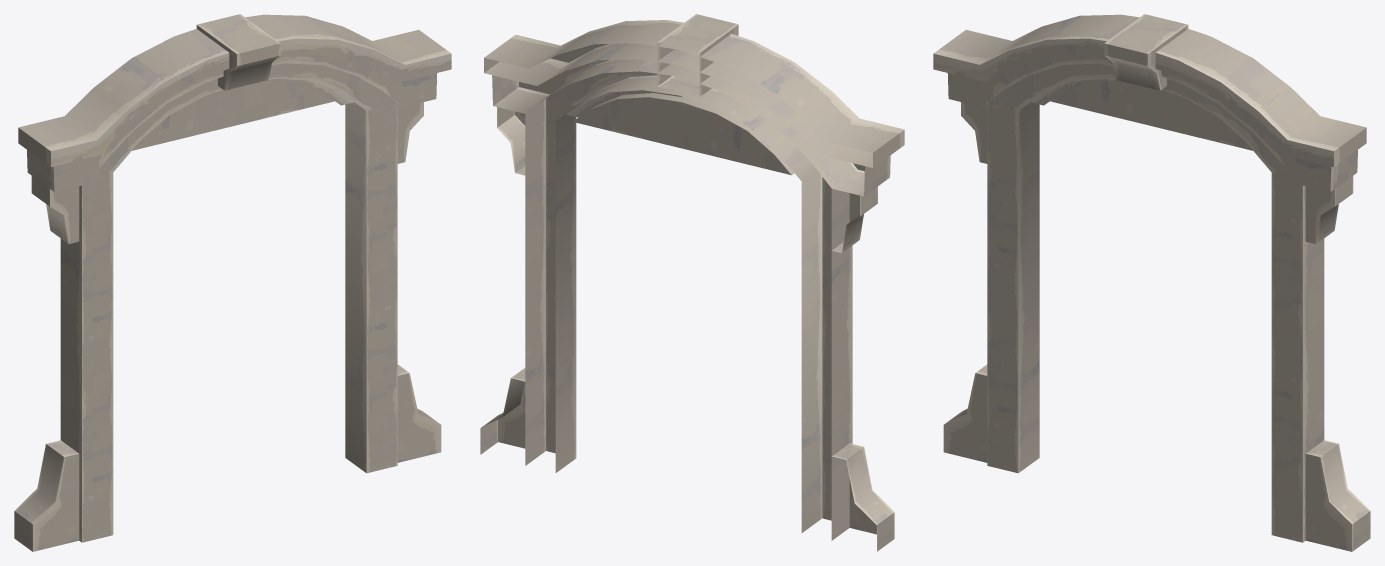
The model's file is MOD_Door_03_framedeco_02_01.fbx.
3 views of the same model, side by side, from view 1: azimuth 30°, elevation 25°; view 2: azimuth 150°, elevation 25°; view 3: azimuth 330°, elevation 25° (orthographic). The views are drawn at different scales.
Visible parts, largest first — view 1: MOD_Door_03_framedeco_02_01; view 2: MOD_Door_03_framedeco_02_01; view 3: MOD_Door_03_framedeco_02_01.
Boxes of the visible parts, x1,y1,x2,y2 form: MOD_Door_03_framedeco_02_01: (14, 14, 451, 551); MOD_Door_03_framedeco_02_01: (480, 14, 904, 551); MOD_Door_03_framedeco_02_01: (933, 14, 1370, 551).
Size of the model in its own units: 306 by 336 by 52.19.
